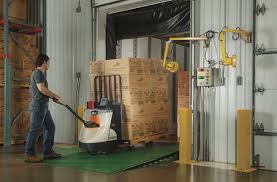Pallet Jack: (52, 73, 172, 158)
